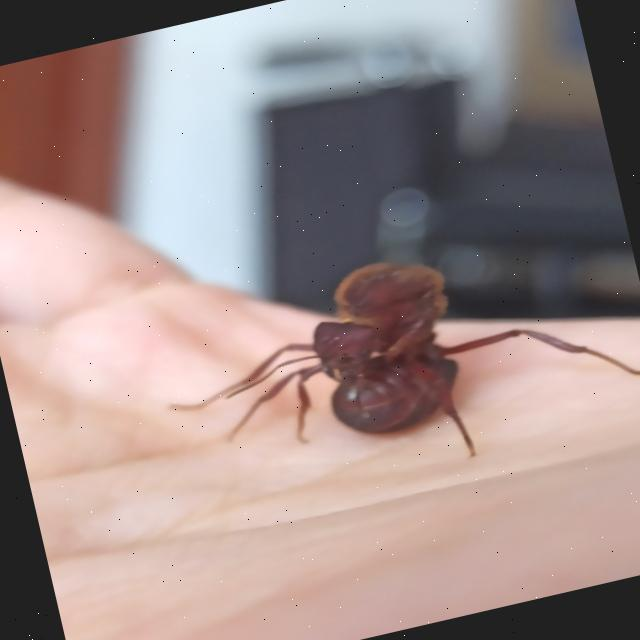Dead-Female-Dealate: (147, 204, 640, 520)
